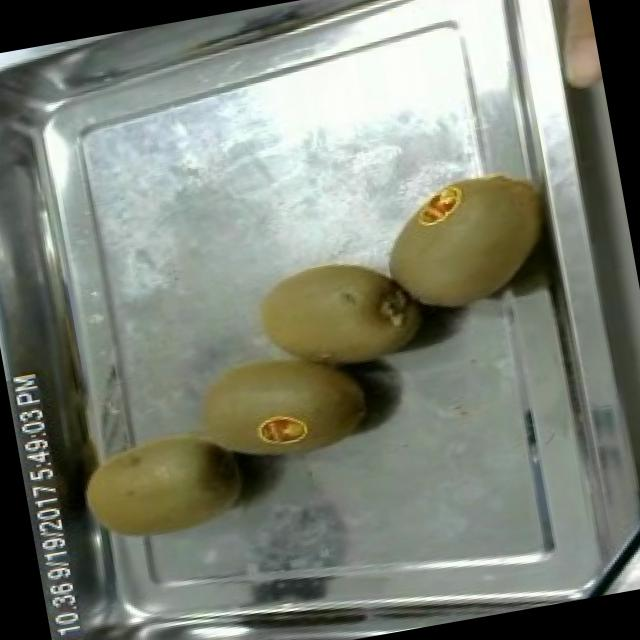Fruit: (364, 151, 558, 330), (243, 235, 447, 396), (178, 327, 382, 477), (67, 408, 266, 558), (536, 0, 605, 104)
